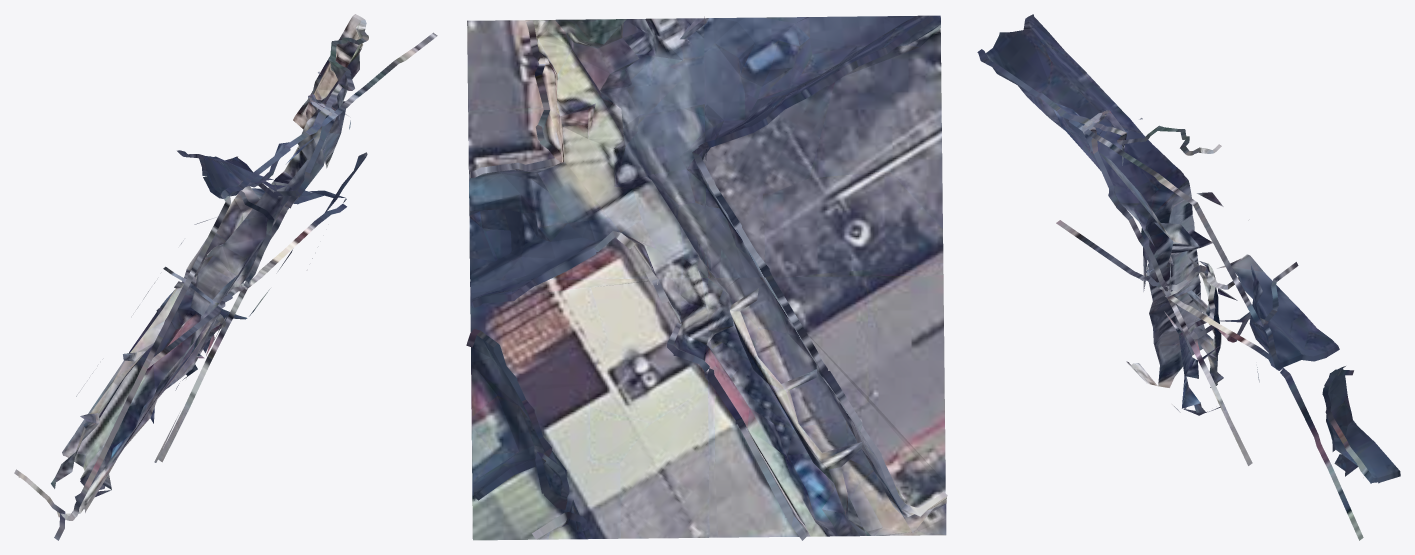
The picture shows the model from 3 angles, left to right: view 1: azimuth 30°, elevation 25°; view 2: azimuth 150°, elevation 25°; view 3: azimuth 270°, elevation 25°; orthographic projection. The views are drawn at different scales.
Bounding box in the file's own units: 40.11 × 37.22 × 35.08.
2 materials, 2 textured.
